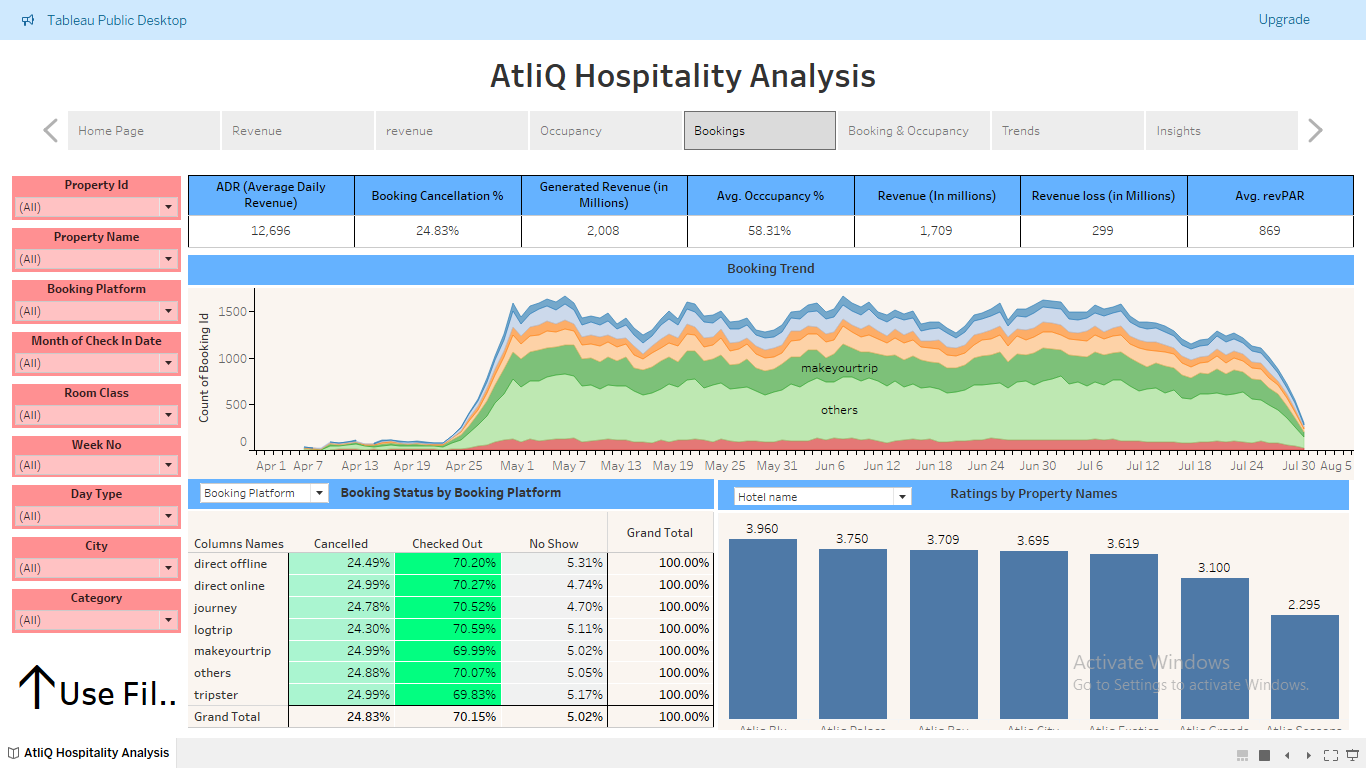

This screenshot's page, from the dashboard's own definition file:
{"tool":"tableau","page":{"name":"Booking ","canvas":[1000,1000],"units":"permille","ordinal":0},"visuals":[{"type":"filter","title":"Revenue KPIs ","param":"[federated.0dyipxl0d44t2k19o4wil0eqguqx].[none:property_id:ok]","box":[0,3.6,131.1,94.2]},{"type":"worksheet","title":"Revenue KPIs ","mark":"Automatic","box":[133.3,9.1,863.7,130.4]},{"type":"filter","title":"Revenue KPIs ","param":"[federated.0dyipxl0d44t2k19o4wil0eqguqx].[none:property_name:nk]","box":[0,97.8,131.1,94.2]},{"type":"worksheet","title":"Sheet 8","mark":"Area","rows":["booking_id"],"cols":["booking_date"],"box":[133.3,152.2,864,402.2]},{"type":"filter","title":"Revenue KPIs ","param":"[federated.0dyipxl0d44t2k19o4wil0eqguqx].[none:booking_platform:nk]","box":[0,192,131.1,94.2]},{"type":"filter","title":"Revenue KPIs ","param":"[federated.0dyipxl0d44t2k19o4wil0eqguqx].[mn:check_in_date:ok]","box":[0,286.2,131.1,94.2]},{"type":"filter","title":"Revenue KPIs ","param":"[federated.0dyipxl0d44t2k19o4wil0eqguqx].[none:room_class:nk]","box":[0,380.4,131.1,94.2]},{"type":"filter","title":"Revenue KPIs ","param":"[federated.0dyipxl0d44t2k19o4wil0eqguqx].[none:week no:nk]","box":[0,474.6,131.1,88.8]},{"type":"worksheet","title":"Sheet 9","mark":"Square","rows":["Calculation_780811602311200769"],"cols":["booking_status"],"box":[133.3,552.5,389.7,443.8]},{"type":"parameter","param":"[Parameters].[Parameter 2]","box":[139.7,556.2,100.2,43.5]},{"type":"filter","title":"Revenue KPIs ","param":"[federated.0dyipxl0d44t2k19o4wil0eqguqx].[none:day_type:nk]","box":[0,563.4,131.1,94.2]},{"type":"parameter","param":"[Parameters].[Parameter 1]","box":[535.9,565.2,136,32.6]},{"type":"filter","title":"Revenue KPIs ","param":"[federated.0dyipxl0d44t2k19o4wil0eqguqx].[none:city:nk]","box":[0,657.6,131.1,94.2]},{"type":"filter","title":"Revenue KPIs ","param":"[federated.0dyipxl0d44t2k19o4wil0eqguqx].[none:category:nk]","box":[0,751.8,131.1,94.2]}]}

Visuals, with their boxes on the dashboard's canvas, which has no fixed pixel size, in thousandths of its width and height (x1, y1, x2, y2). These are canvas units, not pixel positions in the 1366x768 screenshot, which may show the page scaled, cropped or inside an application window:
"Revenue KPIs " filter: x1=0, y1=4, x2=131, y2=98
"Revenue KPIs " worksheet: x1=133, y1=9, x2=997, y2=140
"Revenue KPIs " filter: x1=0, y1=98, x2=131, y2=192
"Sheet 8" worksheet (Area marks): x1=133, y1=152, x2=997, y2=554
"Revenue KPIs " filter: x1=0, y1=192, x2=131, y2=286
"Revenue KPIs " filter: x1=0, y1=286, x2=131, y2=380
"Revenue KPIs " filter: x1=0, y1=380, x2=131, y2=475
"Revenue KPIs " filter: x1=0, y1=475, x2=131, y2=563
"Sheet 9" worksheet (Square marks): x1=133, y1=552, x2=523, y2=996
parameter: x1=140, y1=556, x2=240, y2=600
"Revenue KPIs " filter: x1=0, y1=563, x2=131, y2=658
parameter: x1=536, y1=565, x2=672, y2=598
"Revenue KPIs " filter: x1=0, y1=658, x2=131, y2=752
"Revenue KPIs " filter: x1=0, y1=752, x2=131, y2=846
